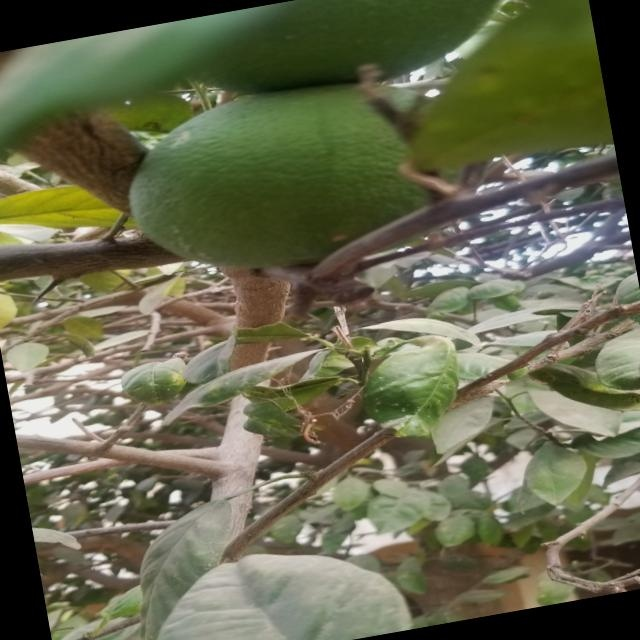agrume: (91, 62, 492, 306), (113, 0, 534, 124)
